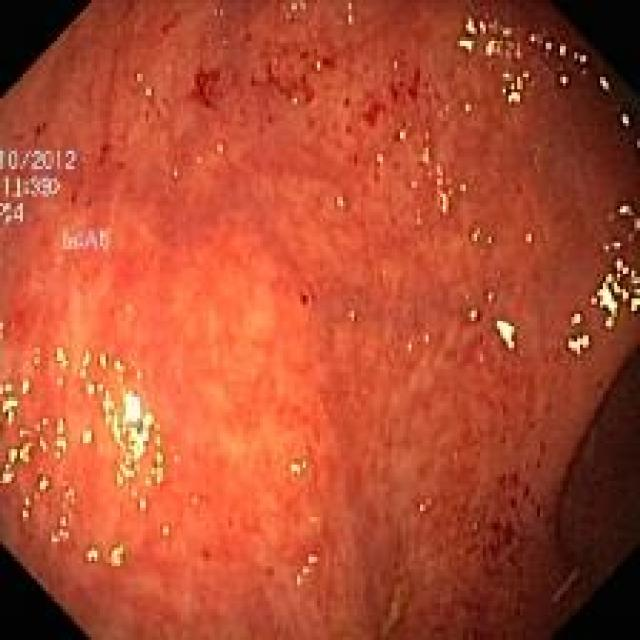ulcerative-colitis-grade-1: (0, 0, 640, 637)
